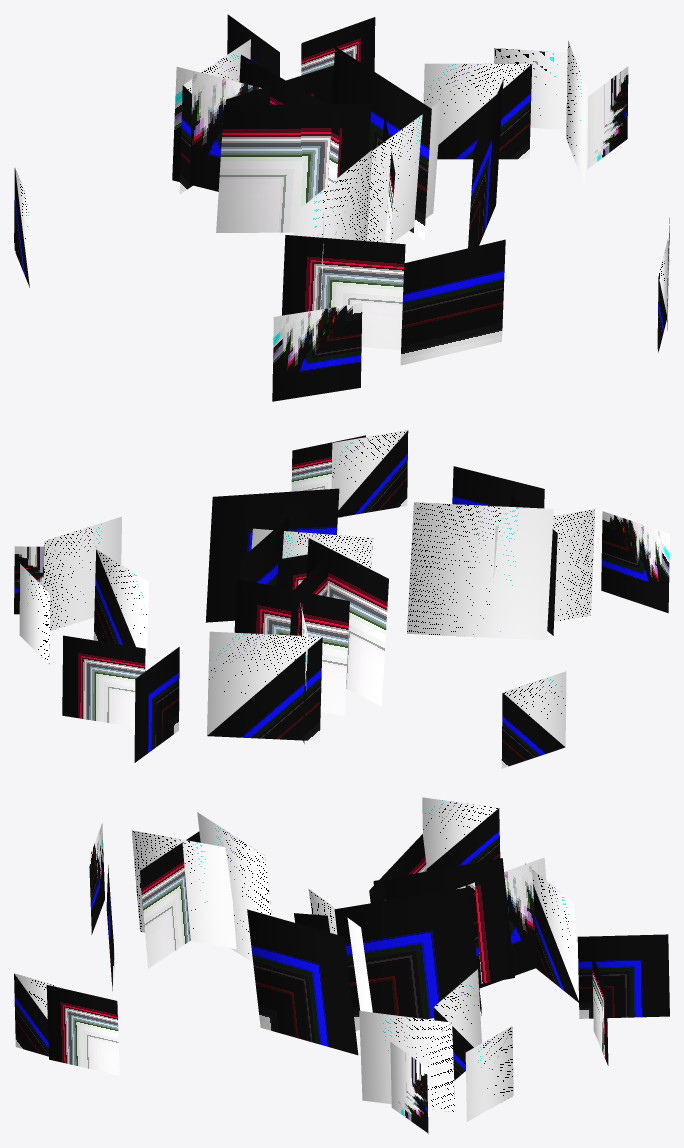
The model's file is spmTitleGrass.fbx.
3 views of the same model, one above another, from view 1: azimuth 30°, elevation 25°; view 2: azimuth 150°, elevation 25°; view 3: azimuth 270°, elevation 25° (orthographic). The views are drawn at different scales.
Parts seen in each view (by area): view 1: spmTitleGrass_LOD0; view 2: spmTitleGrass_LOD0; view 3: spmTitleGrass_LOD0.
Part boxes in pixels (x1=…): spmTitleGrass_LOD0: x1=14, y1=14, x2=669, y2=401; spmTitleGrass_LOD0: x1=14, y1=430, x2=669, y2=768; spmTitleGrass_LOD0: x1=14, y1=797, x2=669, y2=1133.
Size of the model in its own units: 10.47 by 2.51 by 11.04.
